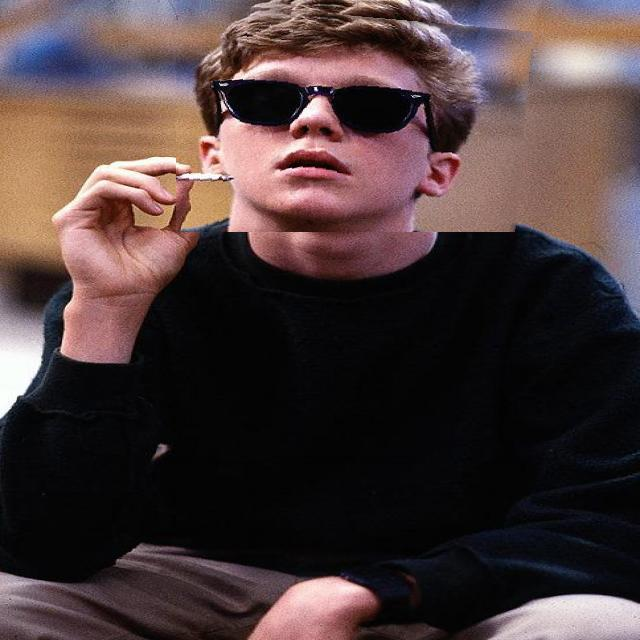cigarette: (162, 161, 262, 180)
